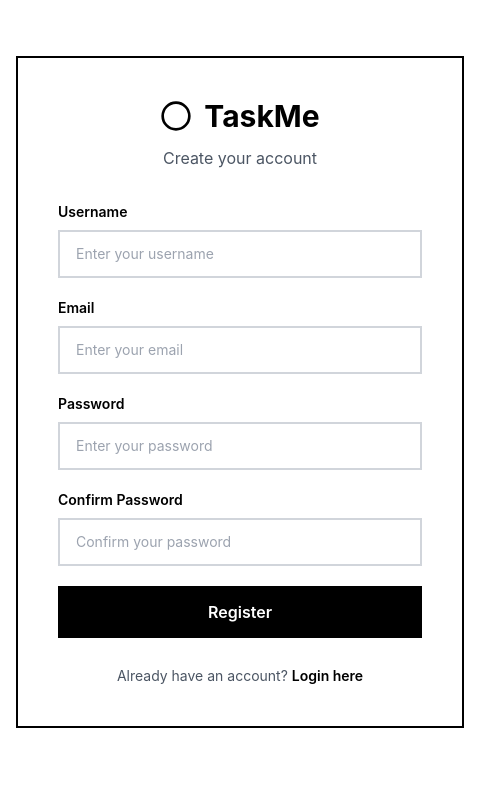
Test case: Register Component › shows validation error when username is empty
This screenshot has width=481, height=785.
Click the button "Register". click: (240, 612)
box: [58,586,422,638]
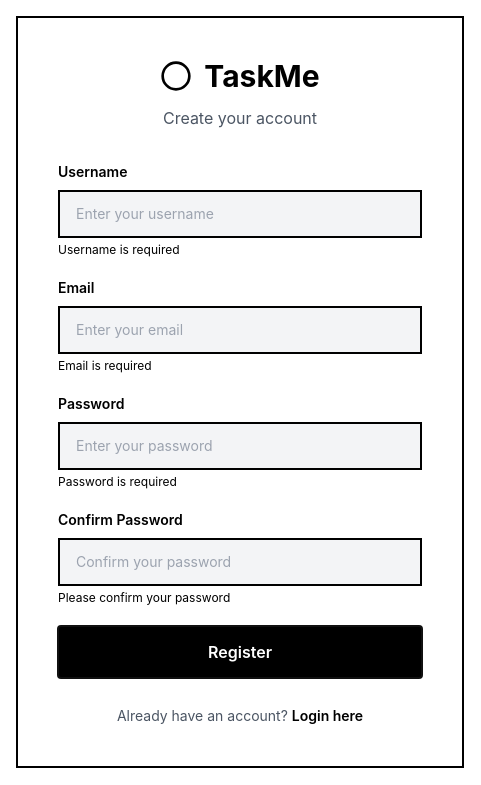
Check: the text "Username is required" is shown, box [58,242,180,257]
